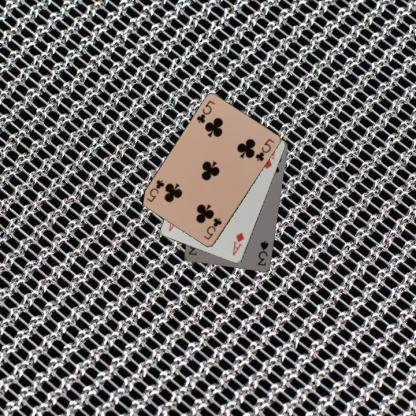3s: (255, 238, 270, 267)
5c: (201, 216, 223, 242), (194, 98, 216, 124)
Ad: (230, 230, 246, 257)
